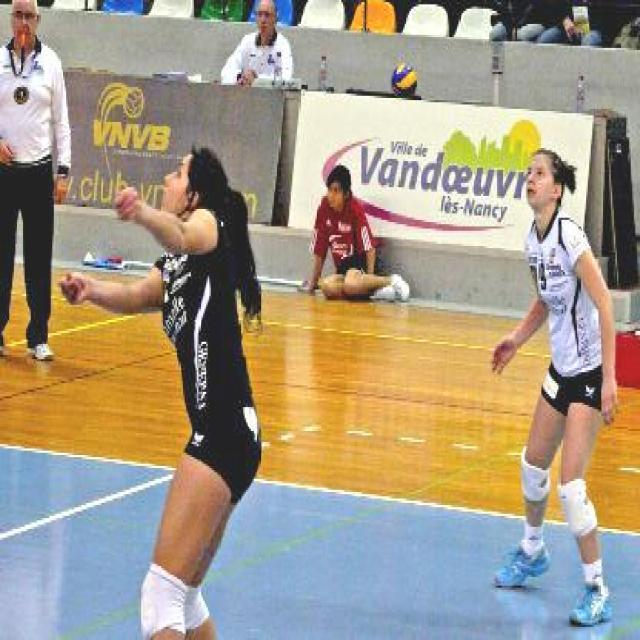volleyball: (390, 62, 418, 94)
